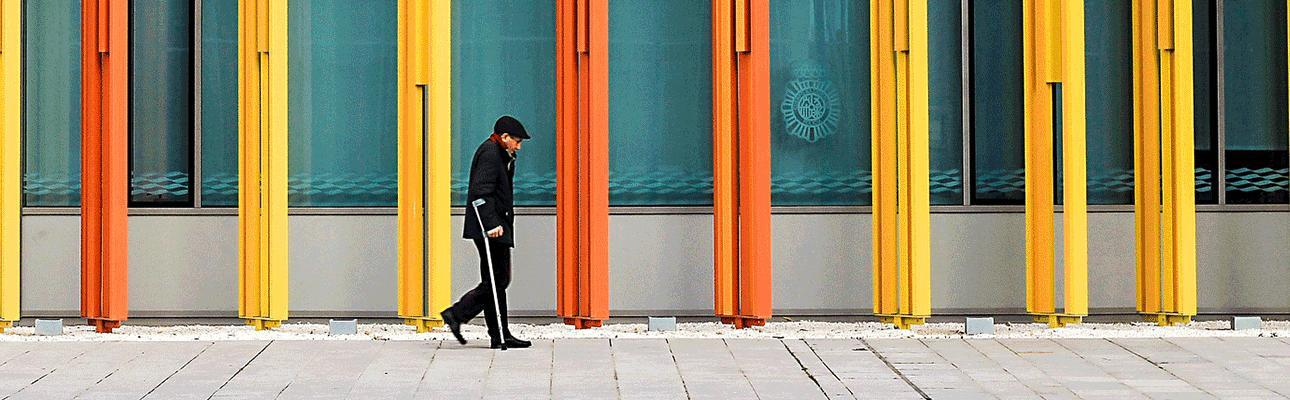crutches: (442, 116, 531, 351)
